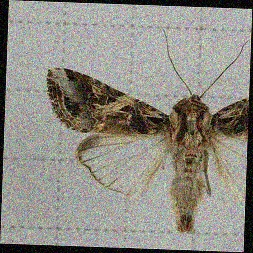Spodoptera litura: (44, 28, 248, 232)
